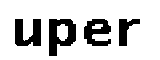e: (83, 17, 114, 48)
p: (45, 14, 79, 60)
r: (117, 18, 143, 48)
u: (11, 14, 43, 49)
